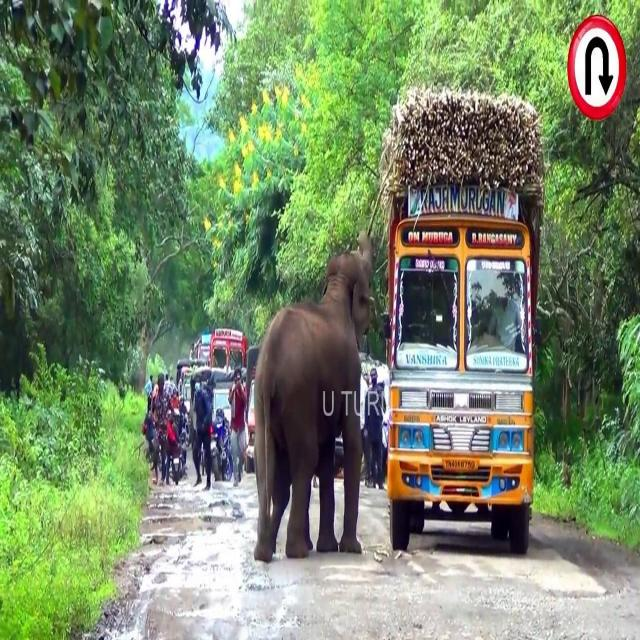Elephant: (252, 231, 374, 566)
